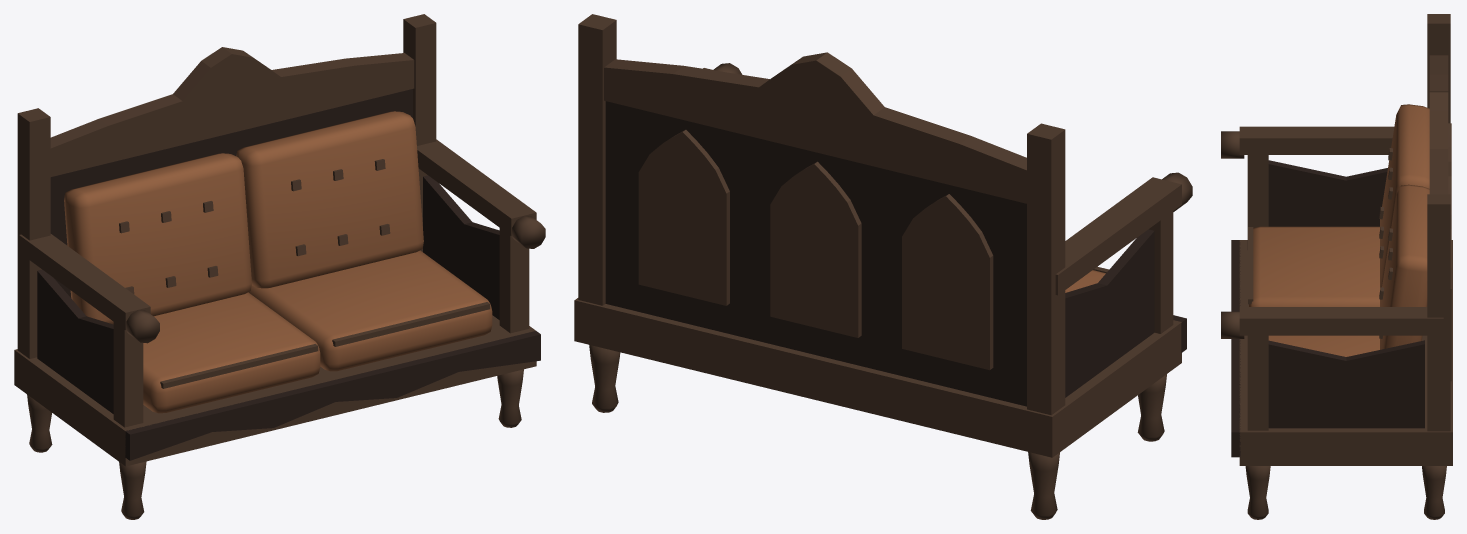
The model's file is settee.glb.
3 views of the same model, side by side, from view 1: azimuth 30°, elevation 25°; view 2: azimuth 150°, elevation 25°; view 3: azimuth 270°, elevation 25° (orthographic). The views are drawn at different scales.
Visible parts, largest first — view 1: settee; view 2: settee; view 3: settee.
Boxes of the visible parts, box(x1,y1,x2,y2) form: settee: box(14, 14, 545, 519); settee: box(574, 14, 1192, 519); settee: box(1221, 14, 1452, 519).
Bounding box in the file's own units: 0.98 × 0.8 × 0.5.
